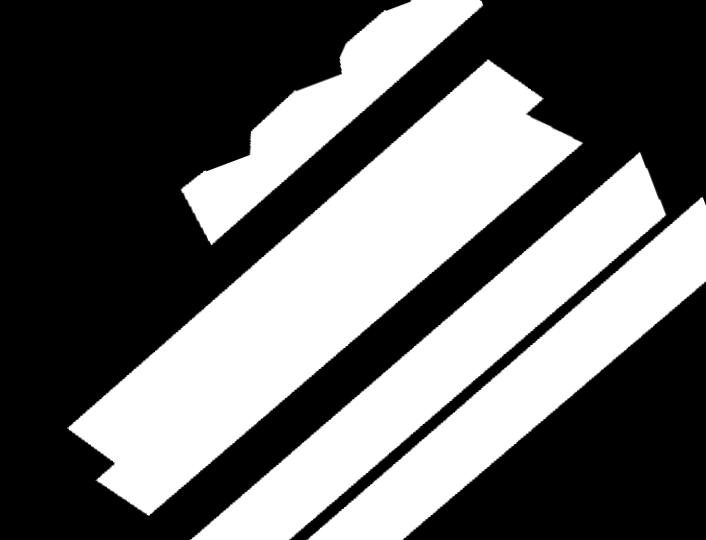parkingspot: (68, 60, 583, 516), (190, 152, 666, 540), (307, 197, 706, 540), (181, 0, 483, 245)
